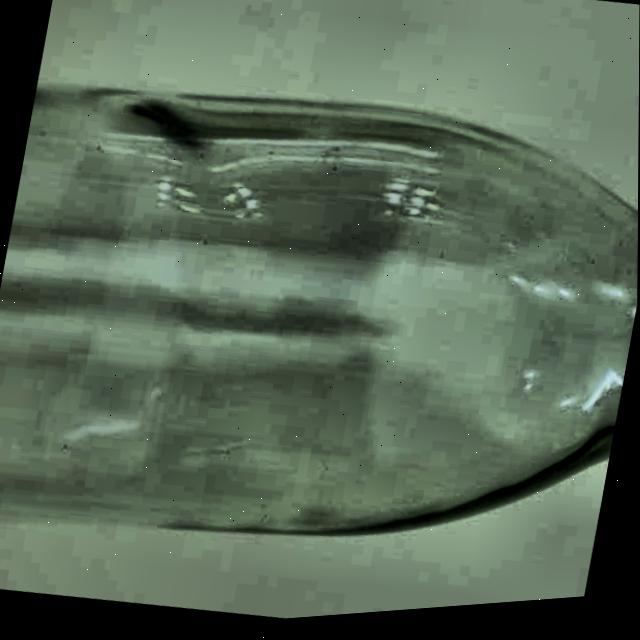glass: (0, 79, 639, 540)
